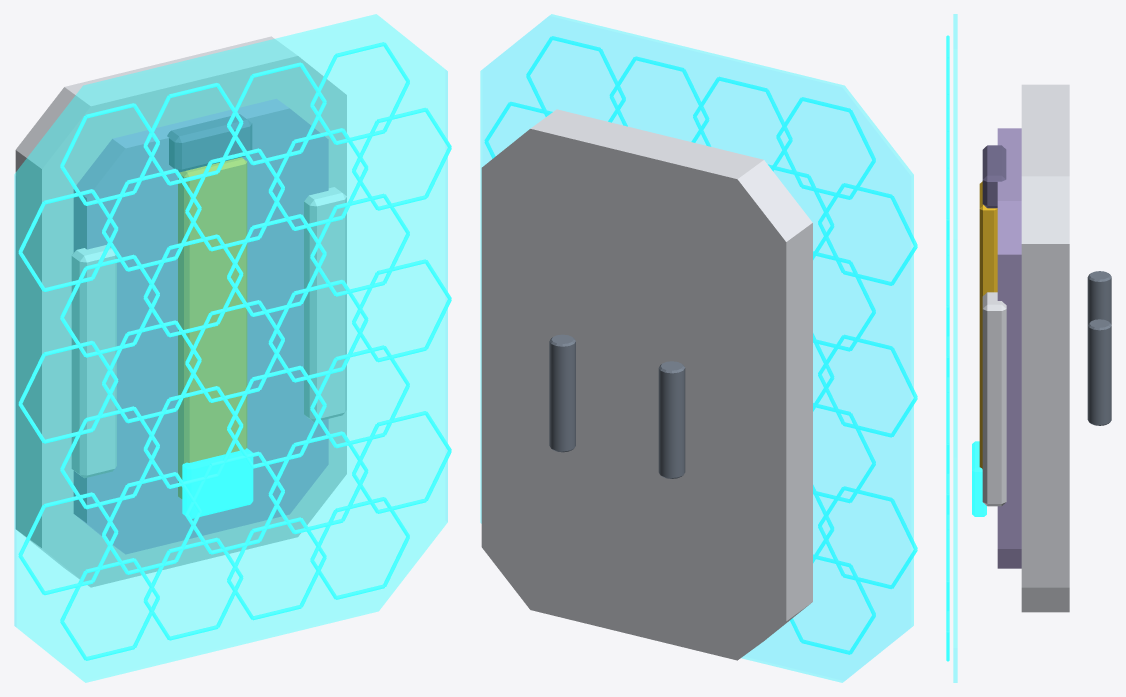
File: Future_HoloShield_v001.fbx
3 views of the same model, side by side, from view 1: azimuth 30°, elevation 25°; view 2: azimuth 150°, elevation 25°; view 3: azimuth 270°, elevation 25° (orthographic). The views are drawn at different scales.
Visible parts, largest first — view 1: Future_HoloShield__RECEIVER_MESH; view 2: Future_HoloShield__RECEIVER_MESH; view 3: Future_HoloShield__RECEIVER_MESH.
Boxes of the visible parts, x1,y1,x2,y2 form: Future_HoloShield__RECEIVER_MESH: [14, 14, 451, 682]; Future_HoloShield__RECEIVER_MESH: [480, 14, 917, 682]; Future_HoloShield__RECEIVER_MESH: [946, 14, 1111, 682].
Size of the model in its own units: 1.51 by 1.98 by 0.551.
